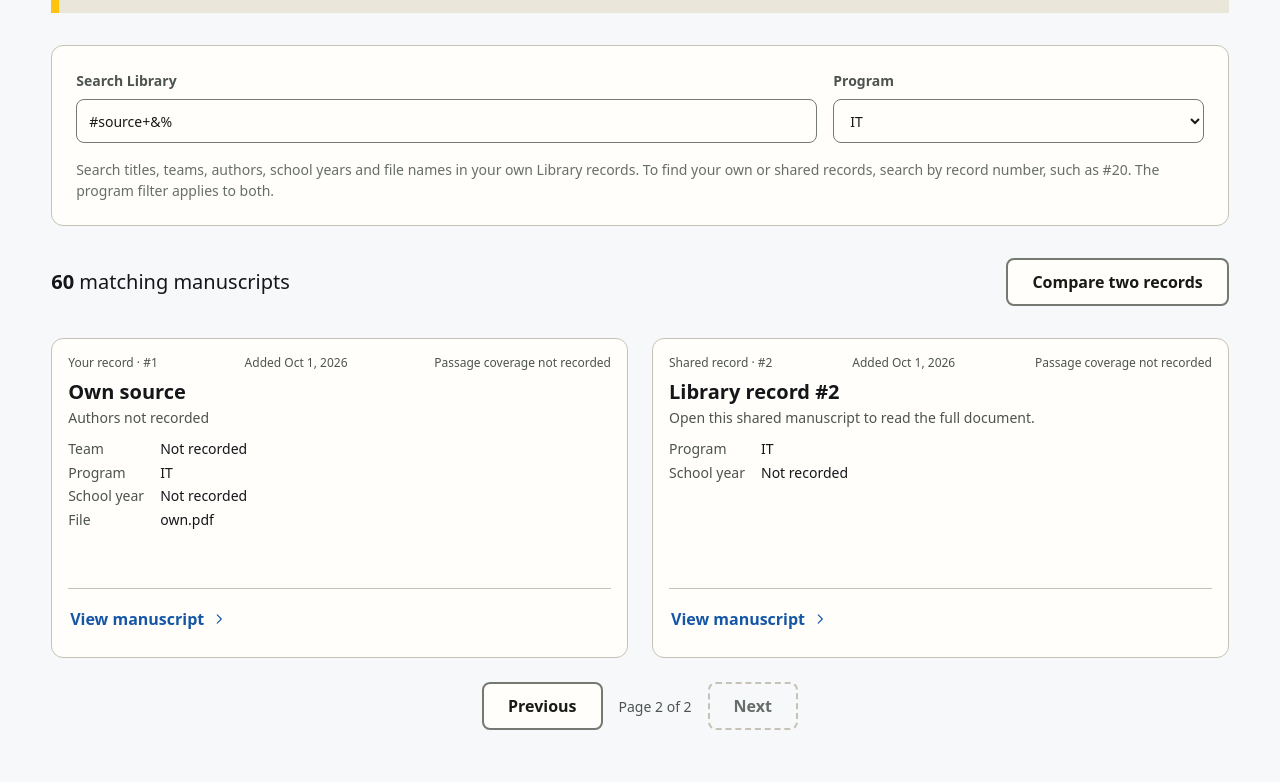
Scenario: Library source return context › retains exact filters/page and focuses the originating Own source action
(page scrolled)
Click the link with aria-label "View manuscript: Own source": coordinates (148, 619) top-left (70, 608), bottom-right (226, 630)
(page scrolled)
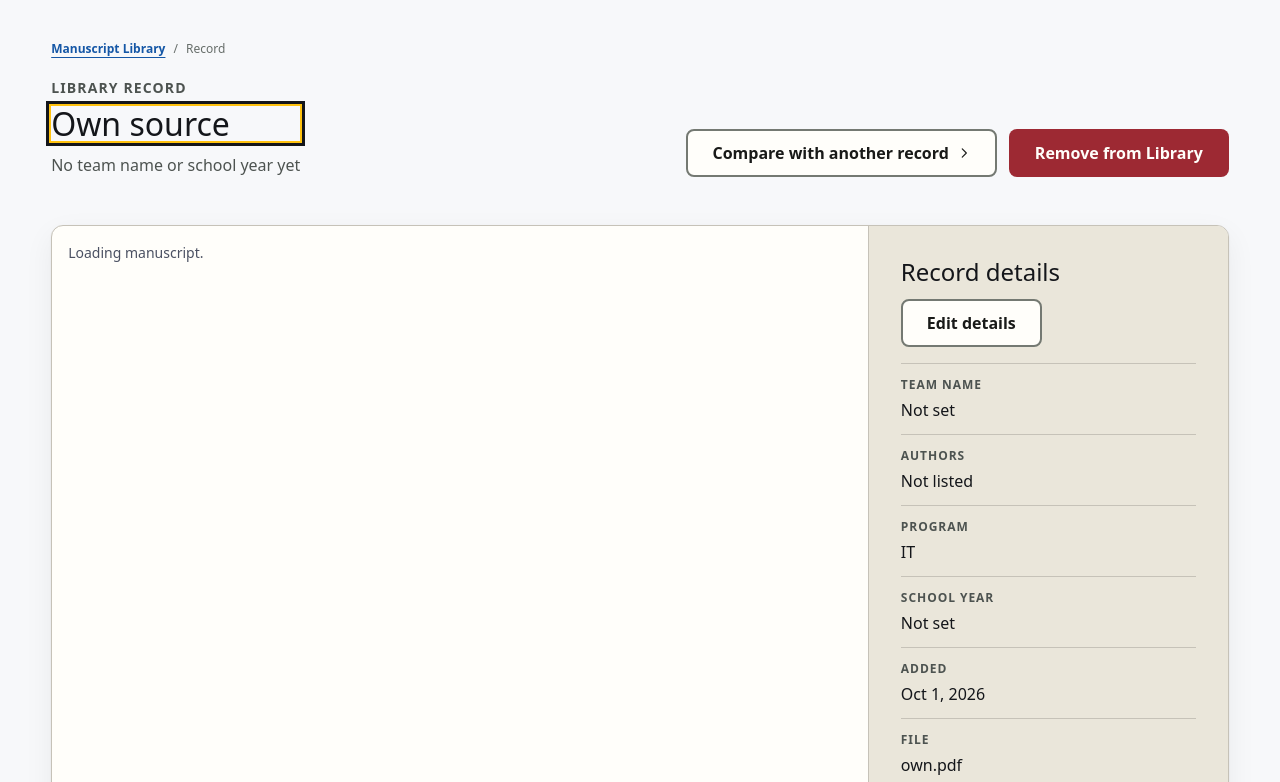
Check: the heading "Own source" is shown, box top-left (51, 106), bottom-right (300, 141)
Click the link "Manuscript Library": coordinates (108, 49) top-left (51, 40), bottom-right (166, 57)
(page scrolled)
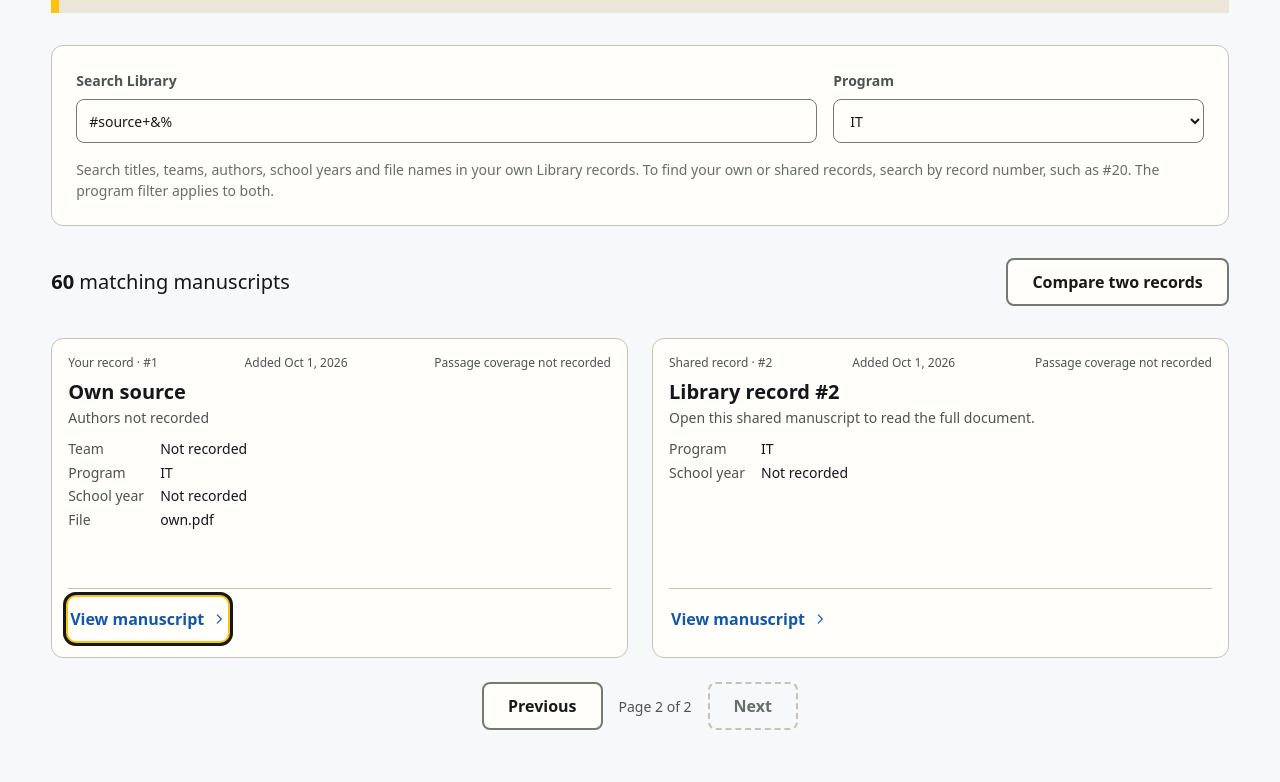
Check: the search field labelled "Search Library" holds "#source+&%", box top-left (76, 99), bottom-right (817, 143)
Check: the dropdown labelled "Program" shows "IT", box top-left (833, 99), bottom-right (1204, 143)
